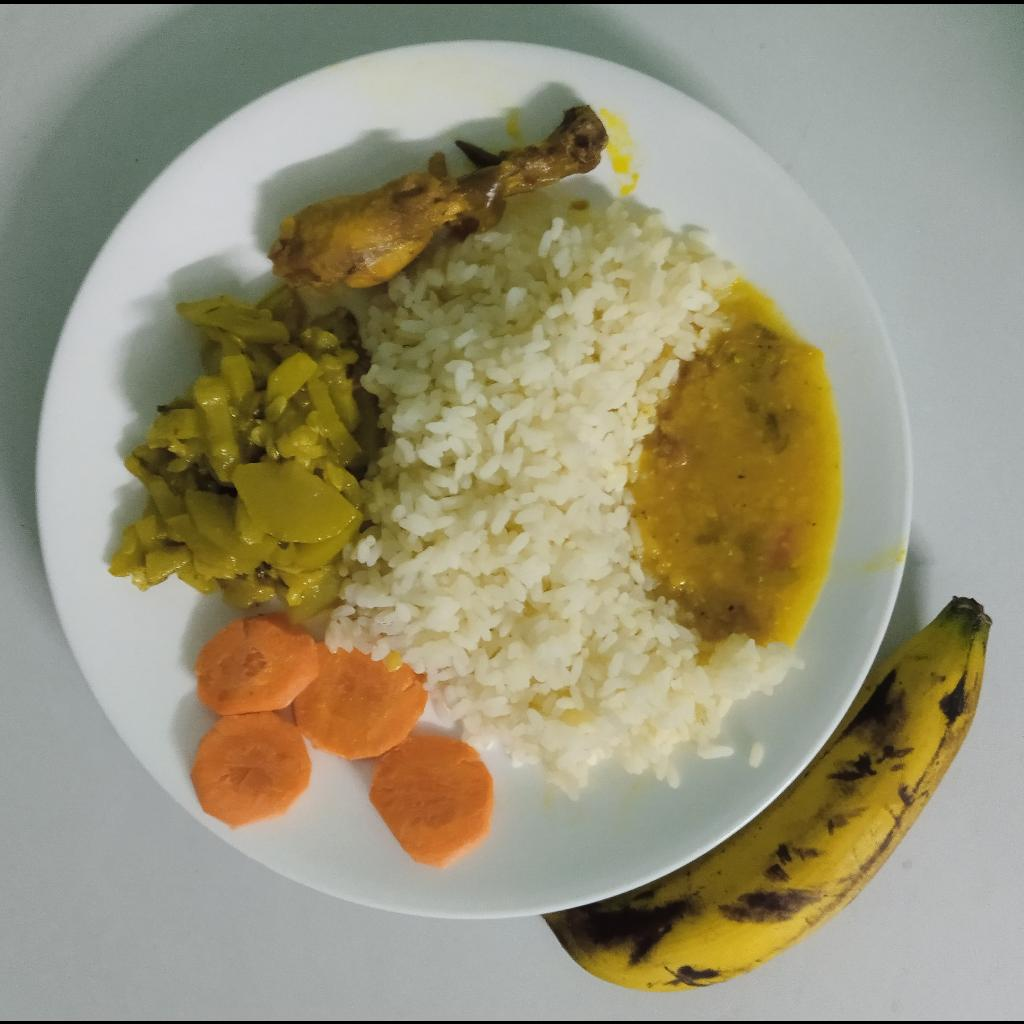banana: (545, 597, 991, 989)
carrot: (188, 610, 491, 869)
chicken: (265, 104, 612, 290)
daal: (635, 284, 846, 639)
dundol: (108, 286, 365, 616)
rice: (330, 196, 804, 797)
